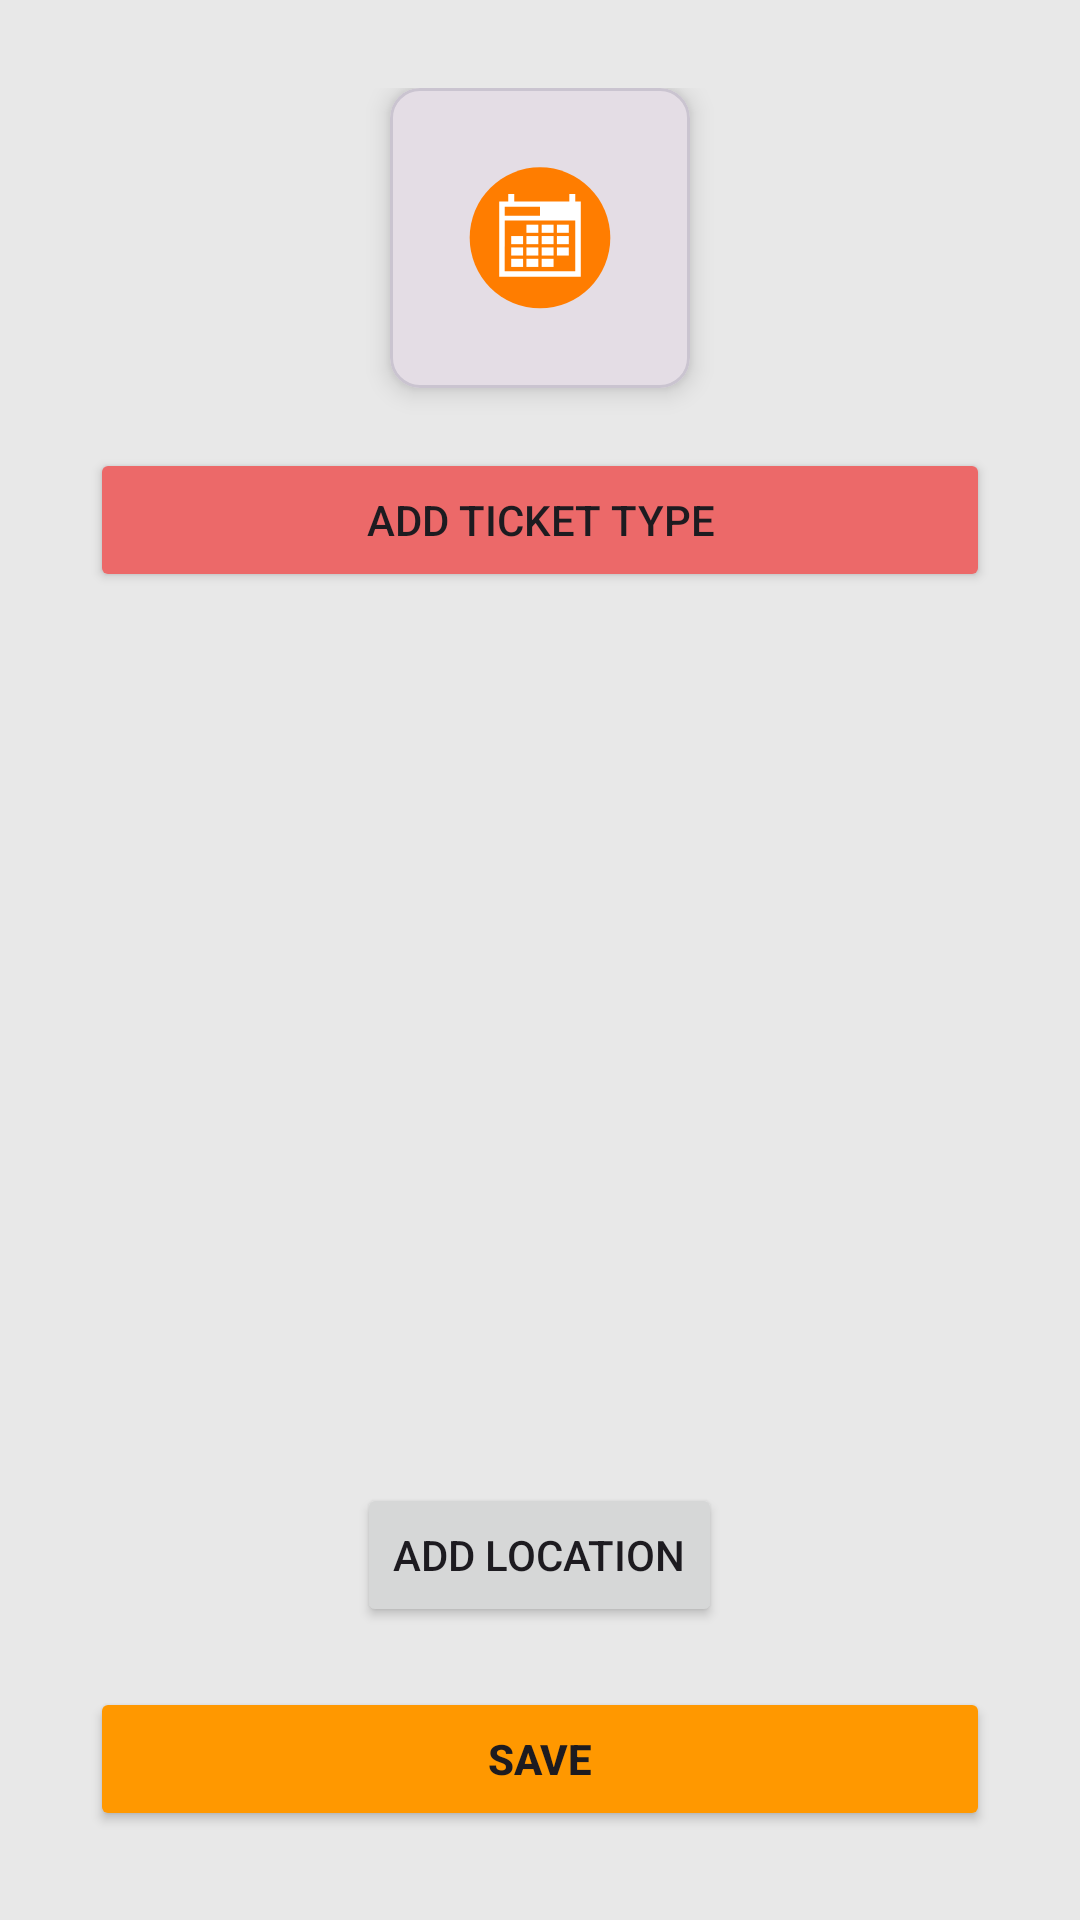

Locate icon controls on the screen. Image size 1080 x 1920, boxes as Rect(x1, y1, x2, y2).
calender: Rect(469, 167, 611, 309)
